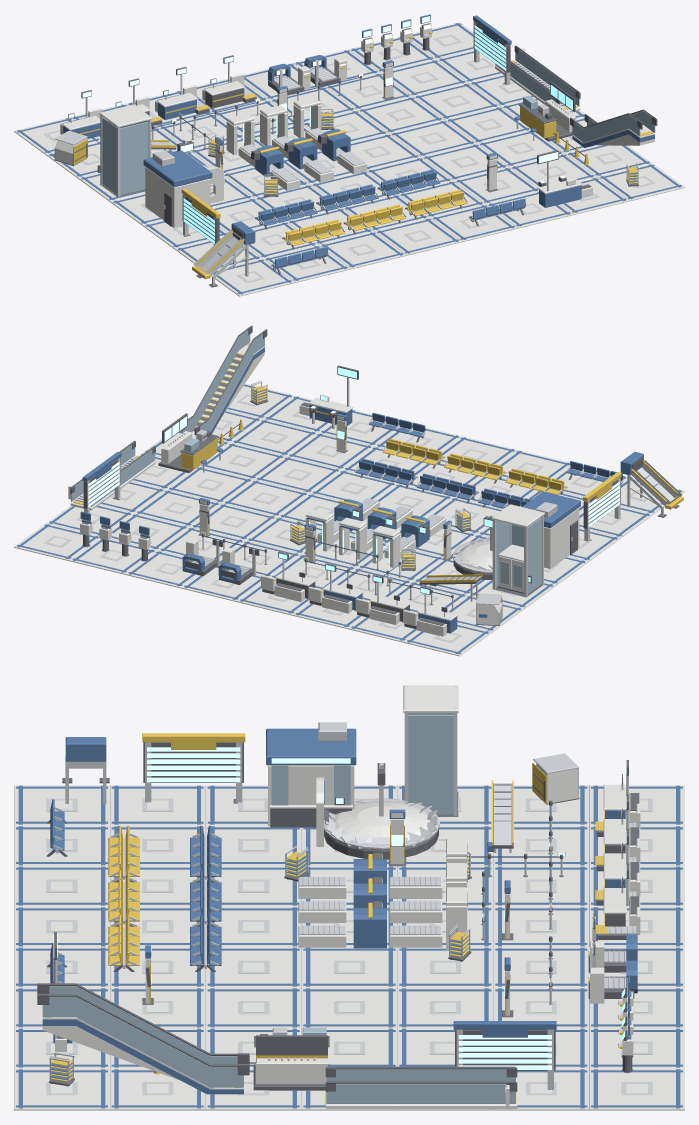
File: airport-terminal-and-ground-operations-d-39670331-starter-scene.glb
3 renders of one model, top to bottom at view 1: azimuth 30°, elevation 25°; view 2: azimuth 150°, elevation 25°; view 3: azimuth 270°, elevation 25°, orthographic. The views are drawn at different scales.
Visible parts, largest first — view 1: 096-panoramic-lift/3, 092-retail-unit/0, 027-terminal-floor-tile/0, 020-terminal-floor-tile/0, 037-terminal-floor-tile/0, 038-terminal-floor-tile/0, 044-terminal-floor-tile/0, 045-terminal-floor-tile/0, 006-terminal-floor-tile/0, 043-terminal-floor-tile/0, 055-terminal-floor-tile/0, 046-terminal-floor-tile/0 (+74 smaller); view 2: 094-escalator/3, 096-panoramic-lift/3, 039-terminal-floor-tile/0, 047-terminal-floor-tile/0, 038-terminal-floor-tile/0, 045-terminal-floor-tile/0, 049-terminal-floor-tile/0, 046-terminal-floor-tile/0, 032-terminal-floor-tile/0, 037-terminal-floor-tile/0, 040-terminal-floor-tile/0, 044-terminal-floor-tile/0 (+73 smaller); view 3: 095-travelator-section/4, 094-escalator/3, 096-panoramic-lift/3, 049-terminal-floor-tile/0, 039-terminal-floor-tile/0, 038-terminal-floor-tile/0, 031-terminal-floor-tile/0, 020-terminal-floor-tile/0, 005-terminal-floor-tile/0, 027-terminal-floor-tile/0, 037-terminal-floor-tile/0, 055-terminal-floor-tile/0 (+111 smaller).
Part boxes in pixels (left/top/right/bottom): 096-panoramic-lift/3: left=102, top=117, right=148, bottom=195; 092-retail-unit/0: left=145, top=166, right=212, bottom=227; 027-terminal-floor-tile/0: left=374, top=218, right=461, bottom=255; 020-terminal-floor-tile/0: left=319, top=231, right=406, bottom=269; 037-terminal-floor-tile/0: left=357, top=96, right=443, bottom=133; 038-terminal-floor-tile/0: left=389, top=120, right=476, bottom=156; 044-terminal-floor-tile/0: left=413, top=83, right=499, bottom=119; 045-terminal-floor-tile/0: left=445, top=106, right=530, bottom=143; 006-terminal-floor-tile/0: left=211, top=258, right=294, bottom=296; 043-terminal-floor-tile/0: left=381, top=59, right=467, bottom=96; 055-terminal-floor-tile/0: left=597, top=163, right=684, bottom=201; 046-terminal-floor-tile/0: left=477, top=130, right=564, bottom=166; 094-escalator/3: left=182, top=330, right=264, bottom=433; 096-panoramic-lift/3: left=496, top=517, right=541, bottom=593; 039-terminal-floor-tile/0: left=254, top=456, right=341, bottom=493; 047-terminal-floor-tile/0: left=231, top=419, right=317, bottom=456; 038-terminal-floor-tile/0: left=222, top=480, right=309, bottom=516; 045-terminal-floor-tile/0: left=166, top=466, right=253, bottom=503; 049-terminal-floor-tile/0: left=14, top=523, right=99, bottom=561; 046-terminal-floor-tile/0: left=199, top=443, right=285, bottom=479; 032-terminal-floor-tile/0: left=310, top=470, right=397, bottom=502; 037-terminal-floor-tile/0: left=190, top=503, right=277, bottom=540; 040-terminal-floor-tile/0: left=287, top=432, right=373, bottom=469; 044-terminal-floor-tile/0: left=134, top=490, right=221, bottom=526; 095-travelator-section/4: left=326, top=1069, right=515, bottom=1103; 094-escalator/3: left=42, top=986, right=243, bottom=1087; 096-panoramic-lift/3: left=408, top=713, right=453, bottom=814; 049-terminal-floor-tile/0: left=589, top=1068, right=684, bottom=1110; 039-terminal-floor-tile/0: left=205, top=987, right=301, bottom=1028; 038-terminal-floor-tile/0: left=301, top=987, right=397, bottom=1028; 031-terminal-floor-tile/0: left=301, top=947, right=397, bottom=987; 020-terminal-floor-tile/0: left=14, top=866, right=109, bottom=906; 005-terminal-floor-tile/0: left=110, top=785, right=205, bottom=825; 027-terminal-floor-tile/0: left=14, top=906, right=109, bottom=947; 037-terminal-floor-tile/0: left=397, top=987, right=493, bottom=1028; 055-terminal-floor-tile/0: left=14, top=1068, right=109, bottom=1110.
Bounding box in the file's own units: 33.52 × 5 × 28.
